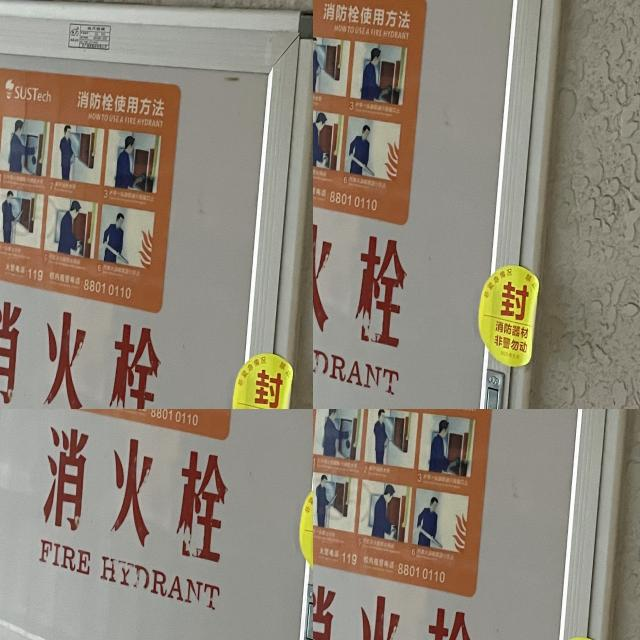Card: (313, 0, 640, 171), (110, 409, 313, 640), (0, 222, 235, 409), (313, 409, 368, 428)
